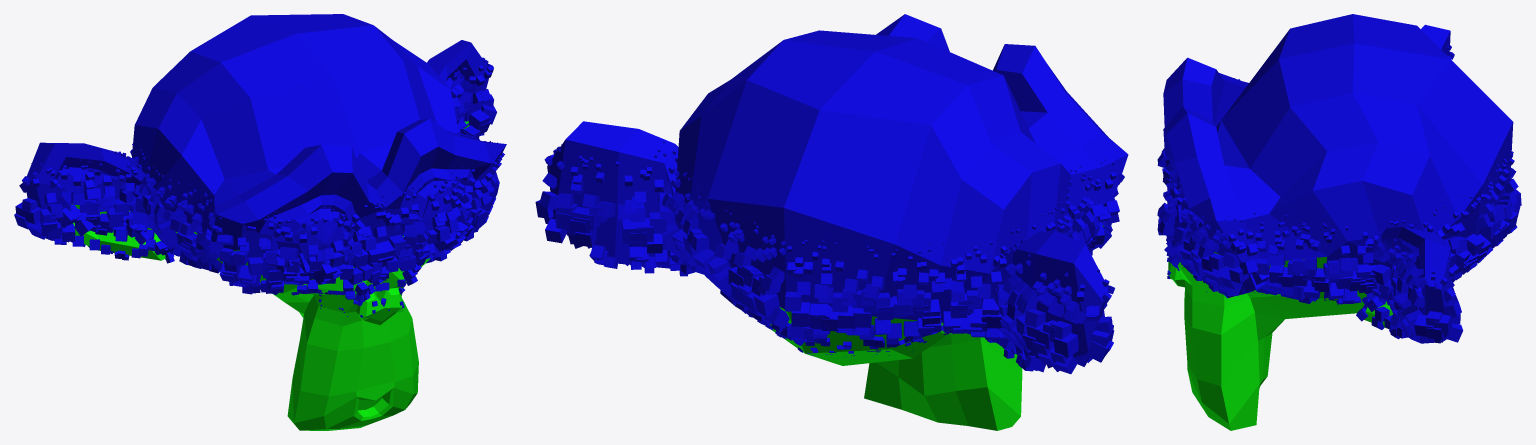
File: Mystique_02.glb
3 renders of one model, left to right at view 1: azimuth 30°, elevation 25°; view 2: azimuth 150°, elevation 25°; view 3: azimuth 270°, elevation 25°, orthographic. The views are drawn at different scales.
Parts seen in each view (by area): view 1: 14; view 2: 14; view 3: 14.
Part boxes in pixels (box(x1,y1,x2,y2)): 14: box(14, 14, 506, 430); 14: box(535, 14, 1128, 430); 14: box(1157, 14, 1521, 430).
Bounding box in the file's own units: 2.81 × 1.97 × 1.77.
